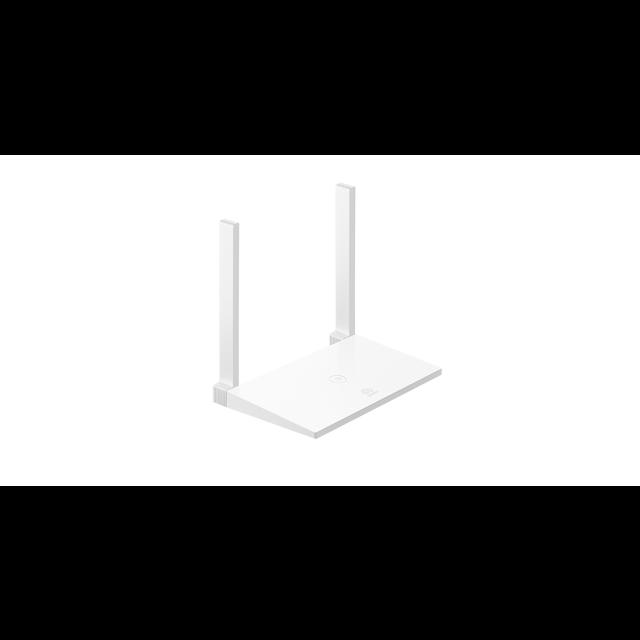Router: (208, 182, 444, 440)
